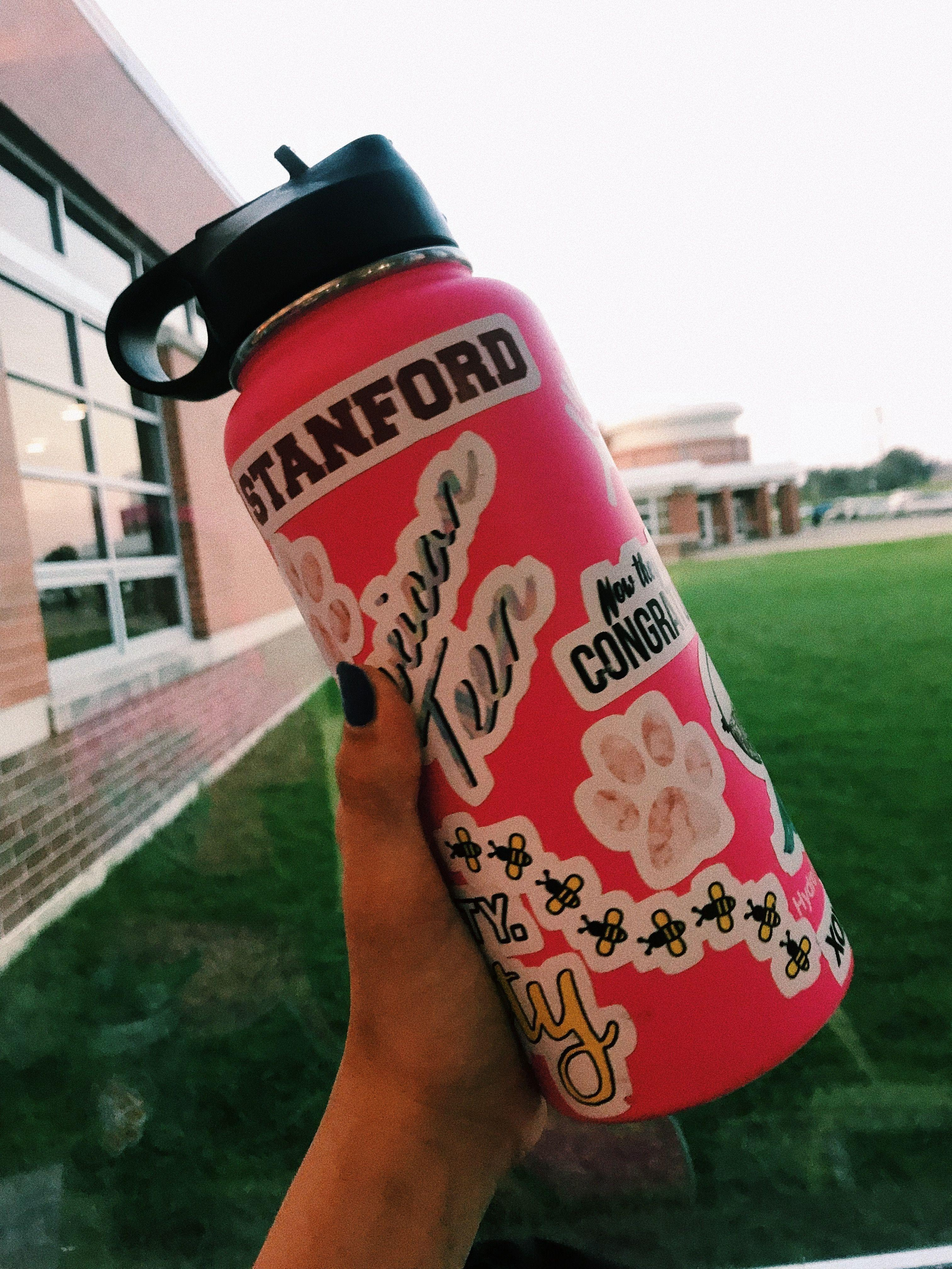gym bottle: (106, 135, 854, 1128)
